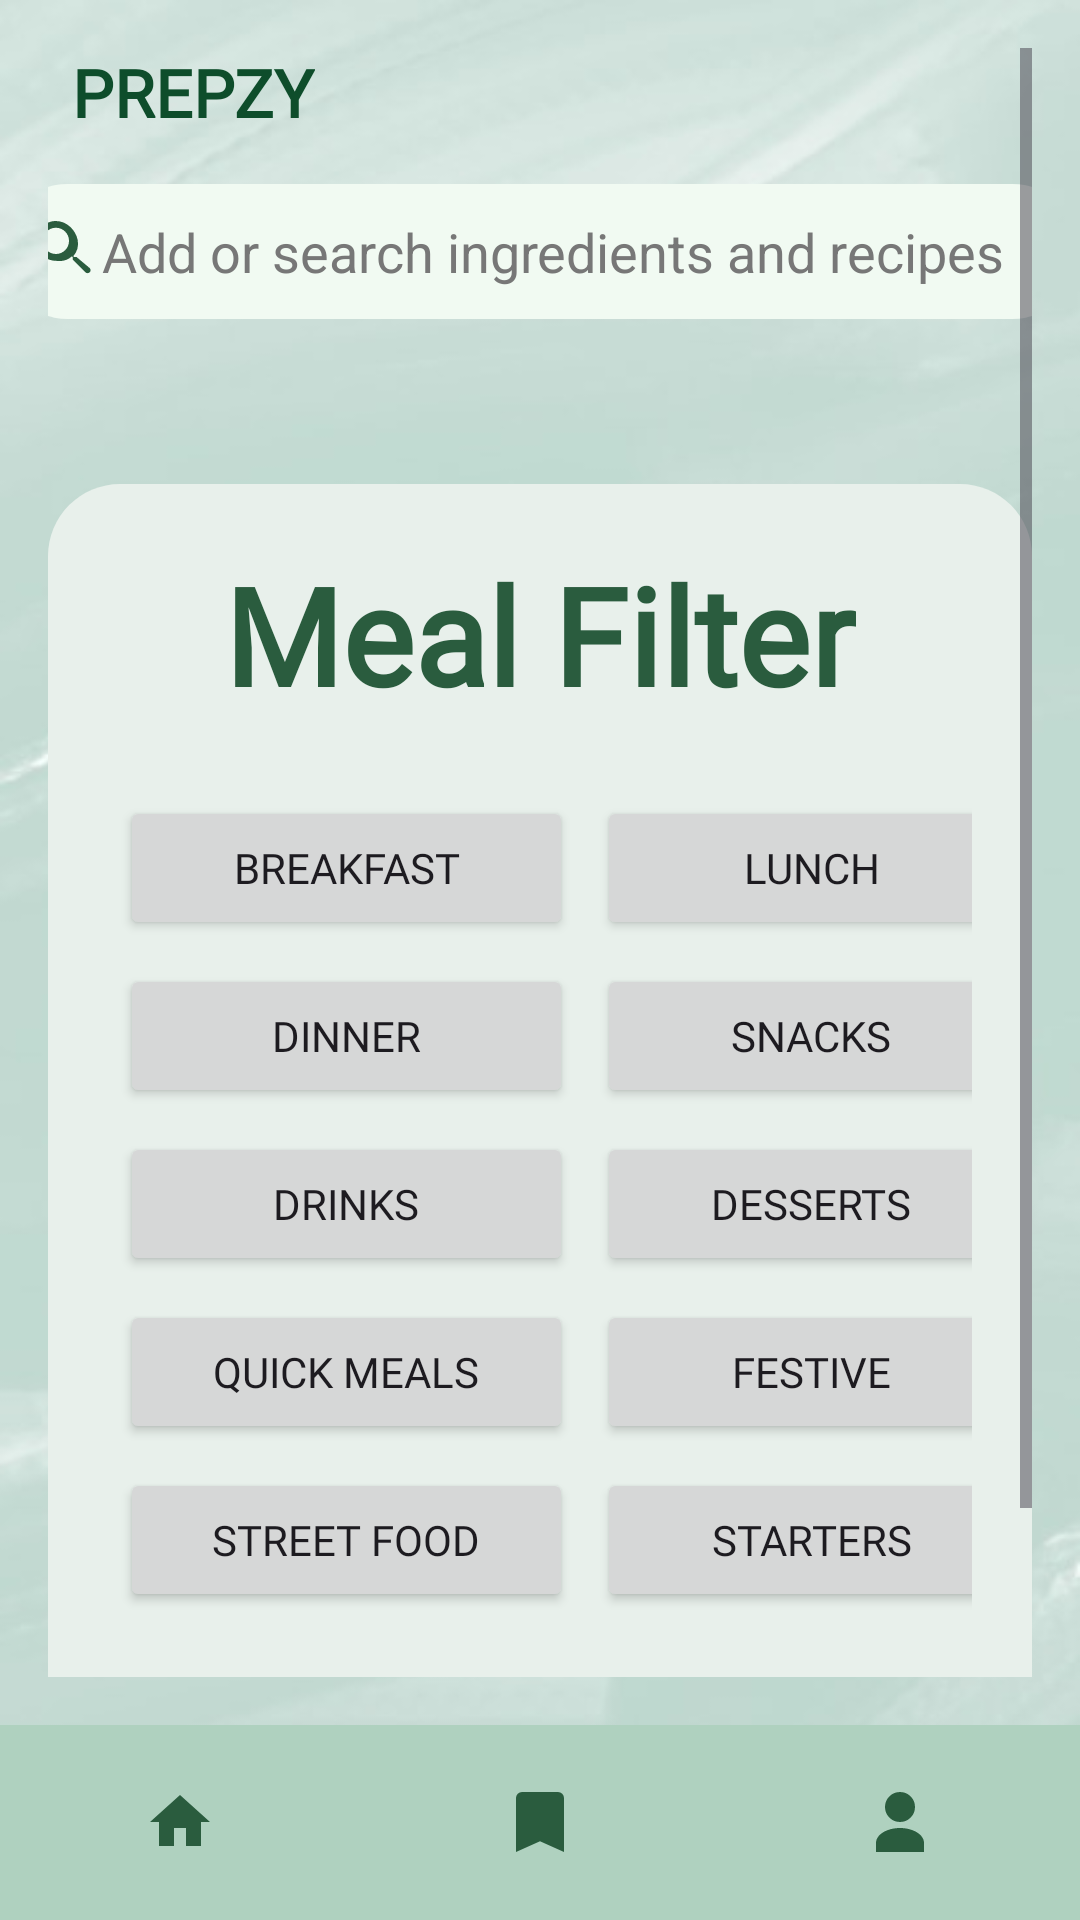

Icon bounding boxes for this 1080px×1920px phone screenshot, format (x1, y1, x2, y2):
Bookmarks: (516, 1792, 564, 1852)
Home: (150, 1795, 210, 1846)
Profile: (876, 1792, 924, 1852)
